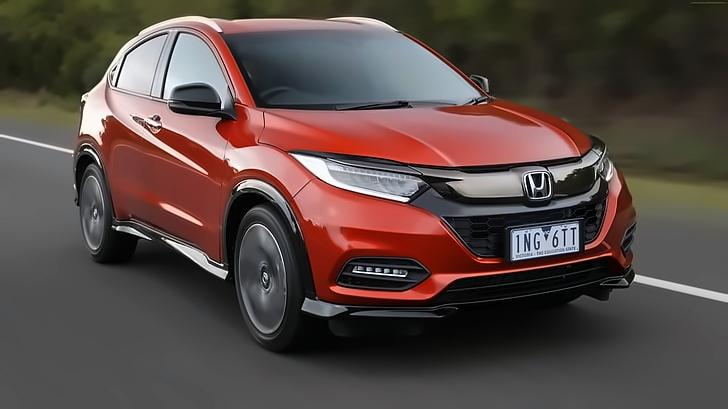Car hood: (252, 95, 609, 175)
Driver-s door - -F-R-: (135, 12, 233, 293)
Fender - -F-R-: (218, 96, 318, 259)
Fender - -R-R-: (70, 50, 124, 184)
Front bumper: (282, 169, 646, 338)
Headlight - -L-: (592, 144, 619, 188)
Headlight - -R-: (288, 145, 424, 207)
Passenger-s door - -R-R-: (94, 11, 183, 247)
Side bumper - -R-: (99, 191, 224, 295)
Side mirror - -R-: (166, 83, 242, 129)
